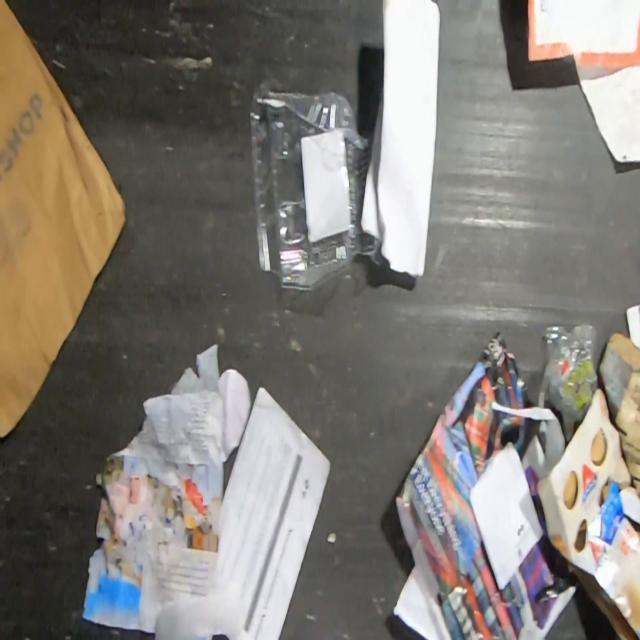cardboard: (535, 385, 640, 640), (598, 329, 640, 497)
rigid_plastic: (249, 86, 388, 294)
soft_plastic: (544, 320, 598, 444)
